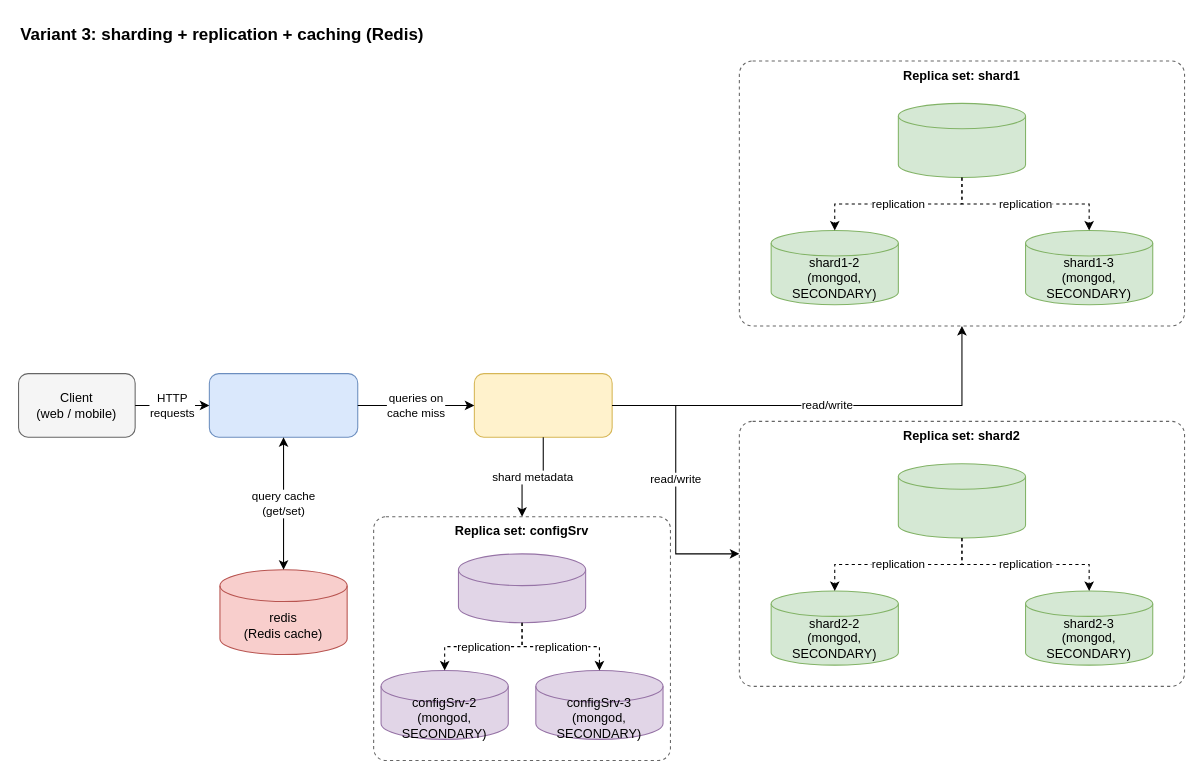
This 1203x779 diagram has some shape labels left out. The centre of each missing label's shape, as x and y in pixels:
"configSrv-1 (mongod, PRIMARY)" goes at point 521,588.
"mongos_router (mongos router)" goes at point 542,405.
"pymongo-api (app: Python / FastAPI)" goes at point 283,405.
"shard1-1 (mongod, PRIMARY)" goes at point 961,140.
"shard2-1 (mongod, PRIMARY)" goes at point 961,500.
